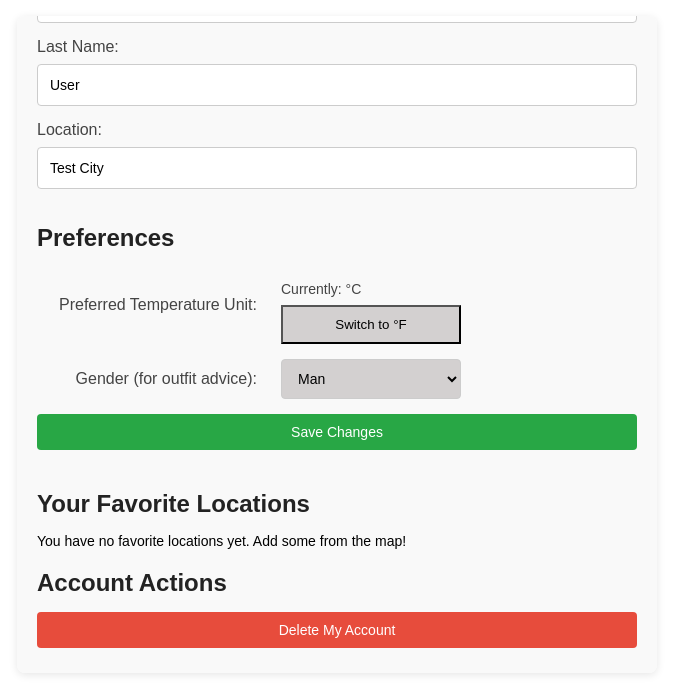
it: UserProfileDisplay Component › parses and displays location error on save failure
The image size is (675, 693).
(page scrolled)
Click the button "Save Changes" at [337, 432], box [37,414,637,450]
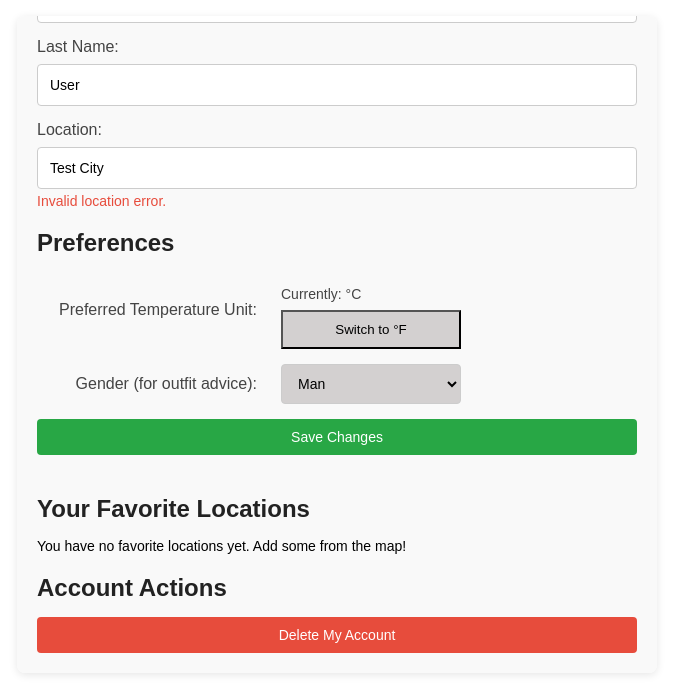
Now the text "Invalid location error." is shown, box [37,193,166,209]
